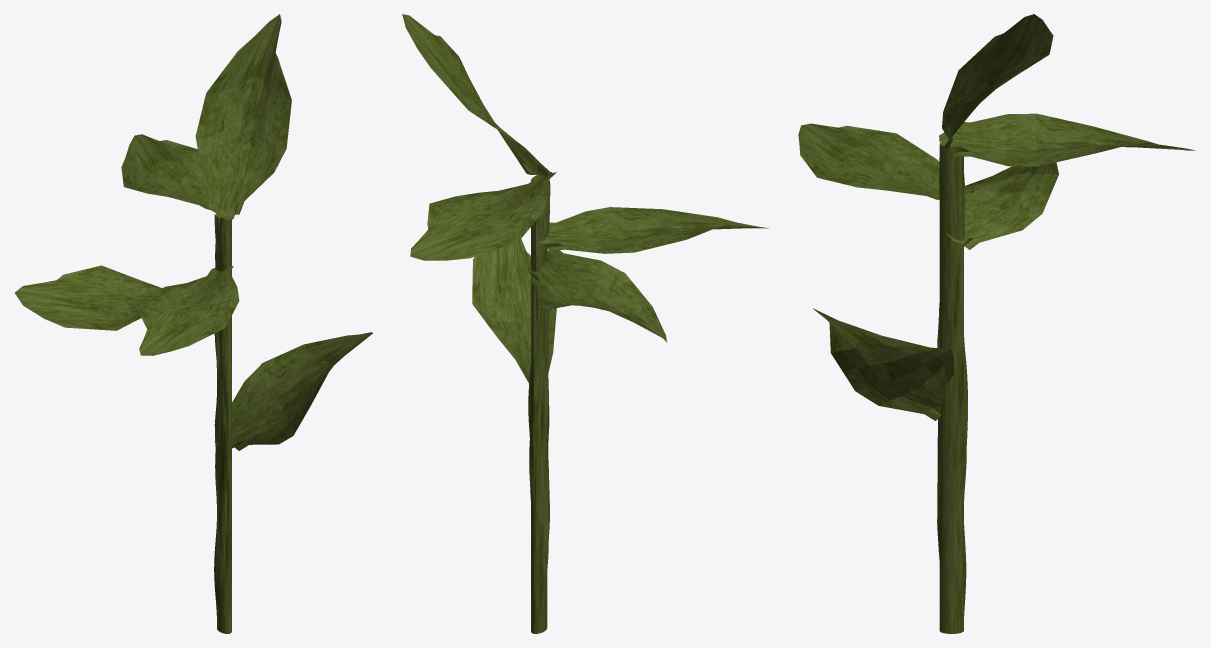
File: Planta1.fbx
3 renders of one model, left to right at view 1: azimuth 30°, elevation 25°; view 2: azimuth 150°, elevation 25°; view 3: azimuth 270°, elevation 25°, orthographic. The views are drawn at different scales.
Visible parts, largest first — view 1: Plane.002, Plane.004, Plane.001, Cylinder, Plane.003, Plane; view 2: Cylinder, Plane, Plane.003, Plane.004, Plane.001, Plane.002; view 3: Cylinder, Plane.004, Plane.003, Plane, Plane.002, Plane.001.
Part boxes in pixels (<box>): Plane.002: <box>195,14,291,222</box>; Plane.004: <box>214,332,372,450</box>; Plane.001: <box>15,265,161,330</box>; Cylinder: <box>214,214,231,633</box>; Plane.003: <box>136,266,239,355</box>; Plane: <box>121,134,228,218</box>; Cylinder: <box>528,175,550,633</box>; Plane: <box>410,172,556,260</box>; Plane.003: <box>538,207,768,253</box>; Plane.004: <box>472,239,556,427</box>; Plane.001: <box>527,250,667,342</box>; Plane.002: <box>402,14,550,176</box>; Cylinder: <box>937,138,967,633</box>; Plane.004: <box>813,308,953,420</box>; Plane.003: <box>798,123,939,199</box>; Plane: <box>939,113,1195,166</box>; Plane.002: <box>942,14,1053,149</box>; Plane.001: <box>946,162,1058,249</box>.
Size of the model in its own units: 9.53 by 20.15 by 10.87.
Materials: 1 (1 with a texture image).
